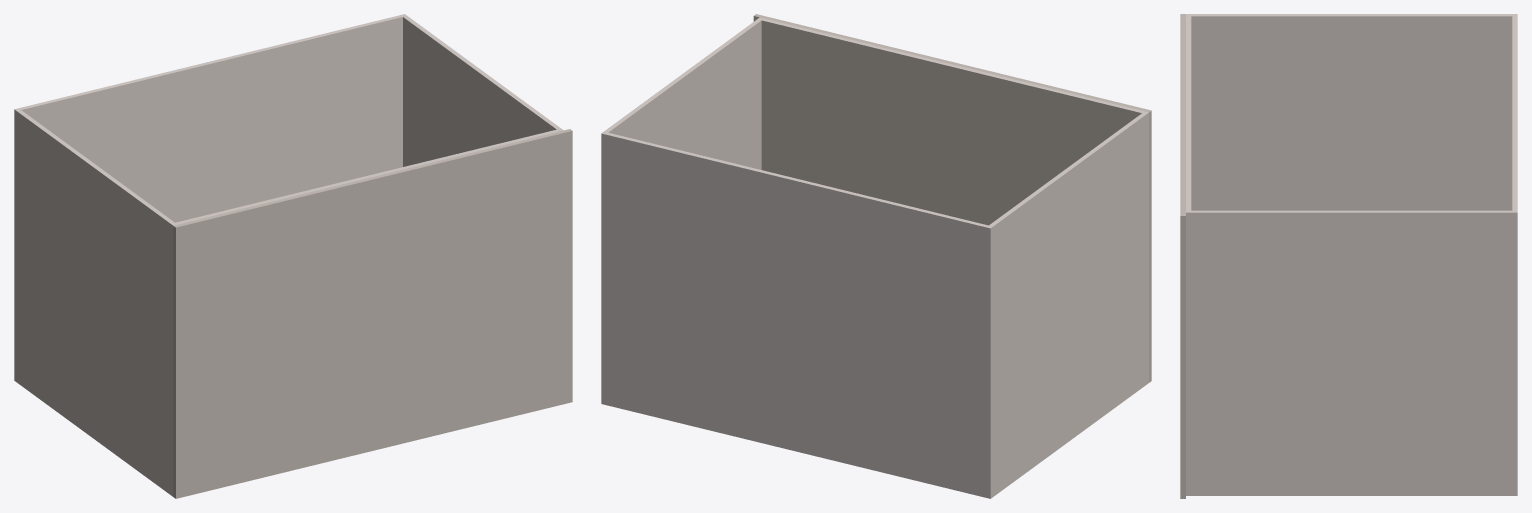
The model's file is Cupboard_22_02.fbx.
3 views of the same model, side by side, from view 1: azimuth 30°, elevation 25°; view 2: azimuth 150°, elevation 25°; view 3: azimuth 270°, elevation 25° (orthographic). The views are drawn at different scales.
Parts seen in each view (by area): view 1: Cupboard_22_02; view 2: Cupboard_22_02; view 3: Cupboard_22_02.
Part boxes in pixels (left/top/right/bottom): Cupboard_22_02: left=14, top=14, right=572, bottom=498; Cupboard_22_02: left=601, top=14, right=1151, bottom=498; Cupboard_22_02: left=1180, top=14, right=1517, bottom=498.
Bounding box in the file's own units: 51.11 × 33.4 × 36.06.
